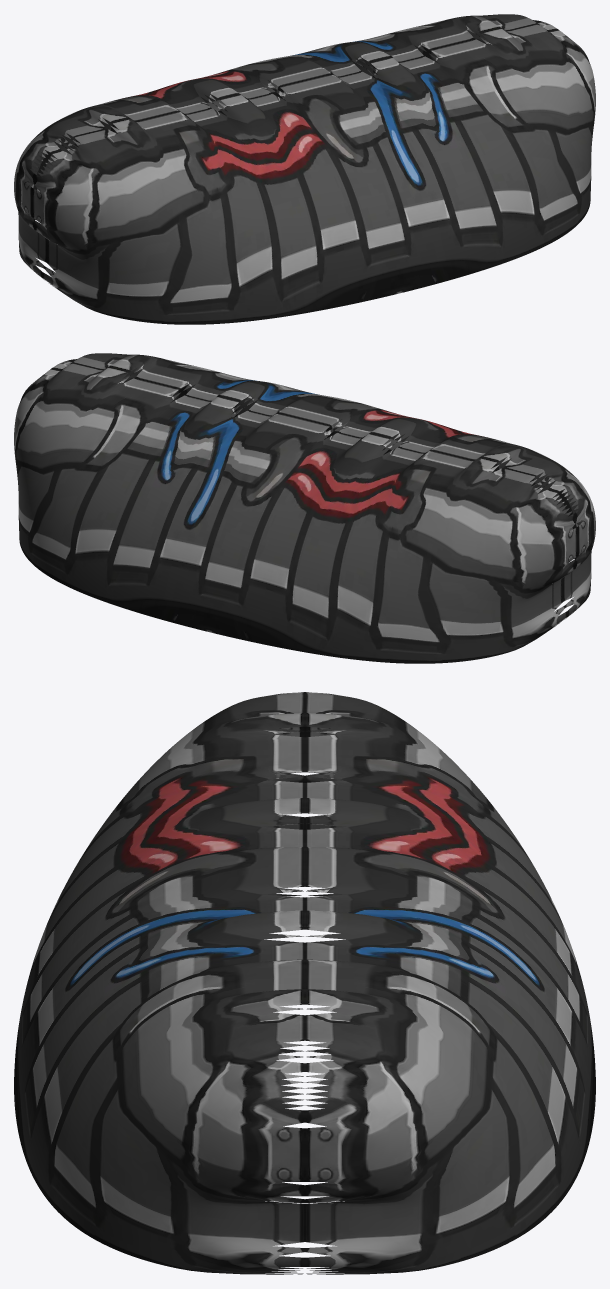
File: pipe_rack.glb
3 renders of one model, top to bottom at view 1: azimuth 30°, elevation 25°; view 2: azimuth 150°, elevation 25°; view 3: azimuth 270°, elevation 25°, orthographic. The views are drawn at different scales.
Visible parts, largest first — view 1: pipe_rack; view 2: pipe_rack; view 3: pipe_rack.
Boxes of the visible parts, x1=… form: pipe_rack: x1=14, y1=14, x2=595, y2=324; pipe_rack: x1=14, y1=353, x2=595, y2=663; pipe_rack: x1=14, y1=692, x2=595, y2=1274.
Size of the model in its own units: 0.989 by 0.258 by 0.5954.
1 material, 1 textured.
